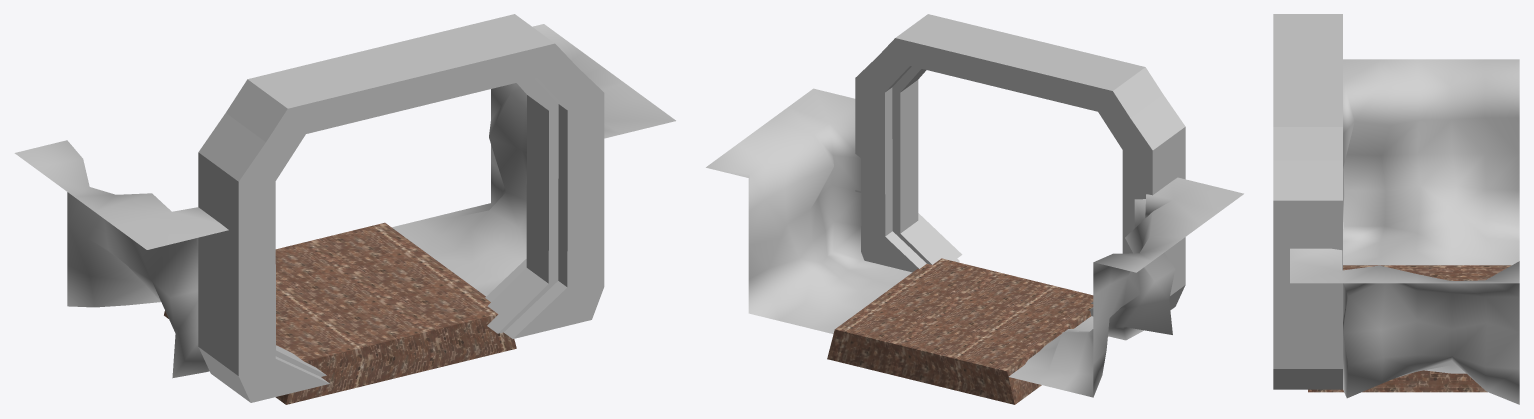
Rendered from tile_tunnelconnector.fbx.
3 views of the same model, side by side, from view 1: azimuth 30°, elevation 25°; view 2: azimuth 150°, elevation 25°; view 3: azimuth 270°, elevation 25° (orthographic). The views are drawn at different scales.
Parts seen in each view (by area): view 1: tiletunnel5; view 2: tiletunnel5; view 3: tiletunnel5.
Boxes of the visible parts, box(x1,y1,x2,y2) form: tiletunnel5: box(14, 14, 675, 404); tiletunnel5: box(706, 14, 1243, 404); tiletunnel5: box(1273, 14, 1519, 404).
Size of the model in its own units: 5000 by 2327 by 2845.
